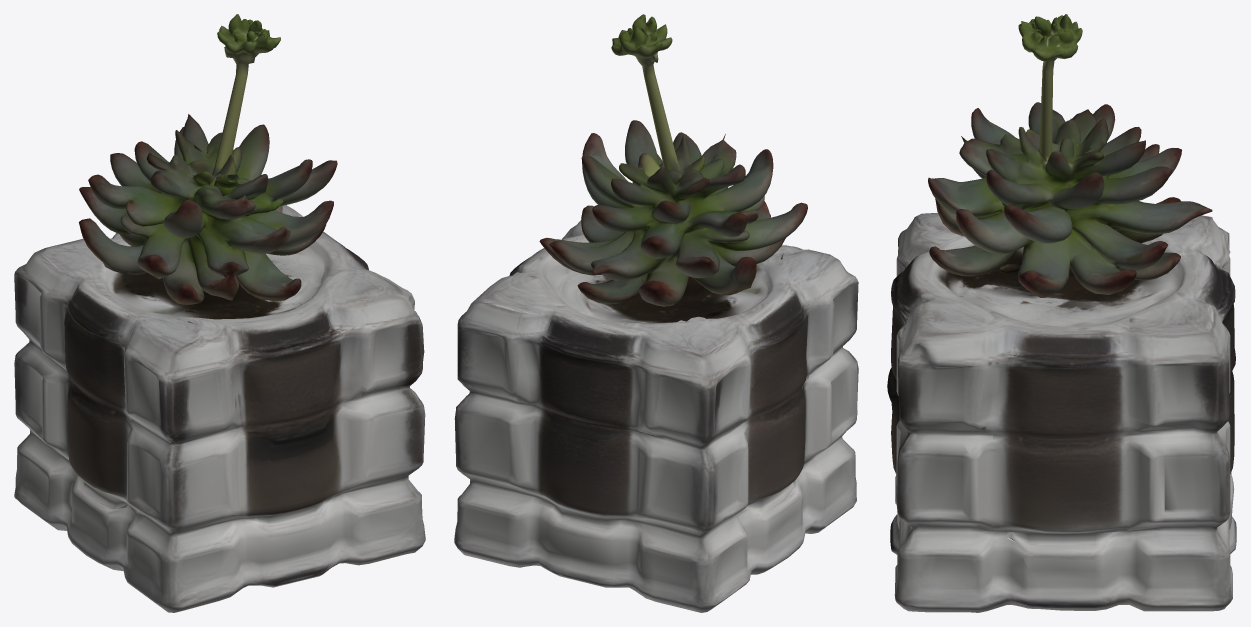
File: plant.glb
3 views of the same model, side by side, from view 1: azimuth 30°, elevation 25°; view 2: azimuth 150°, elevation 25°; view 3: azimuth 270°, elevation 25° (orthographic). The views are drawn at different scales.
Visible parts, largest first — view 1: mesh_rep_0_ori_repair_quad; view 2: mesh_rep_0_ori_repair_quad; view 3: mesh_rep_0_ori_repair_quad.
Part boxes in pixels (x1,y1,x2,y2): mesh_rep_0_ori_repair_quad: (14, 14, 425, 612); mesh_rep_0_ori_repair_quad: (454, 14, 858, 612); mesh_rep_0_ori_repair_quad: (887, 14, 1236, 612).
Bounding box in the file's own units: 0.0496 × 0.0885 × 0.0509.
Materials: 1 (1 with a texture image).
